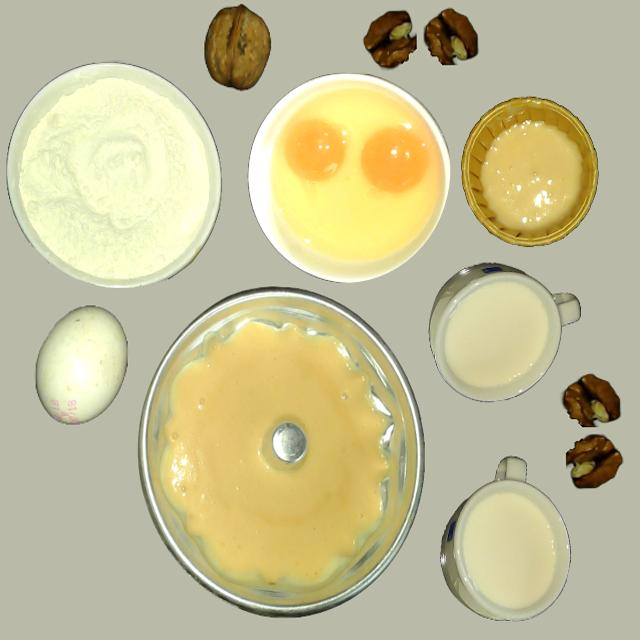Egg: (361, 126, 428, 192), (285, 118, 348, 182)
Flour: (5, 64, 216, 288)
Walnut: (205, 4, 271, 90)
